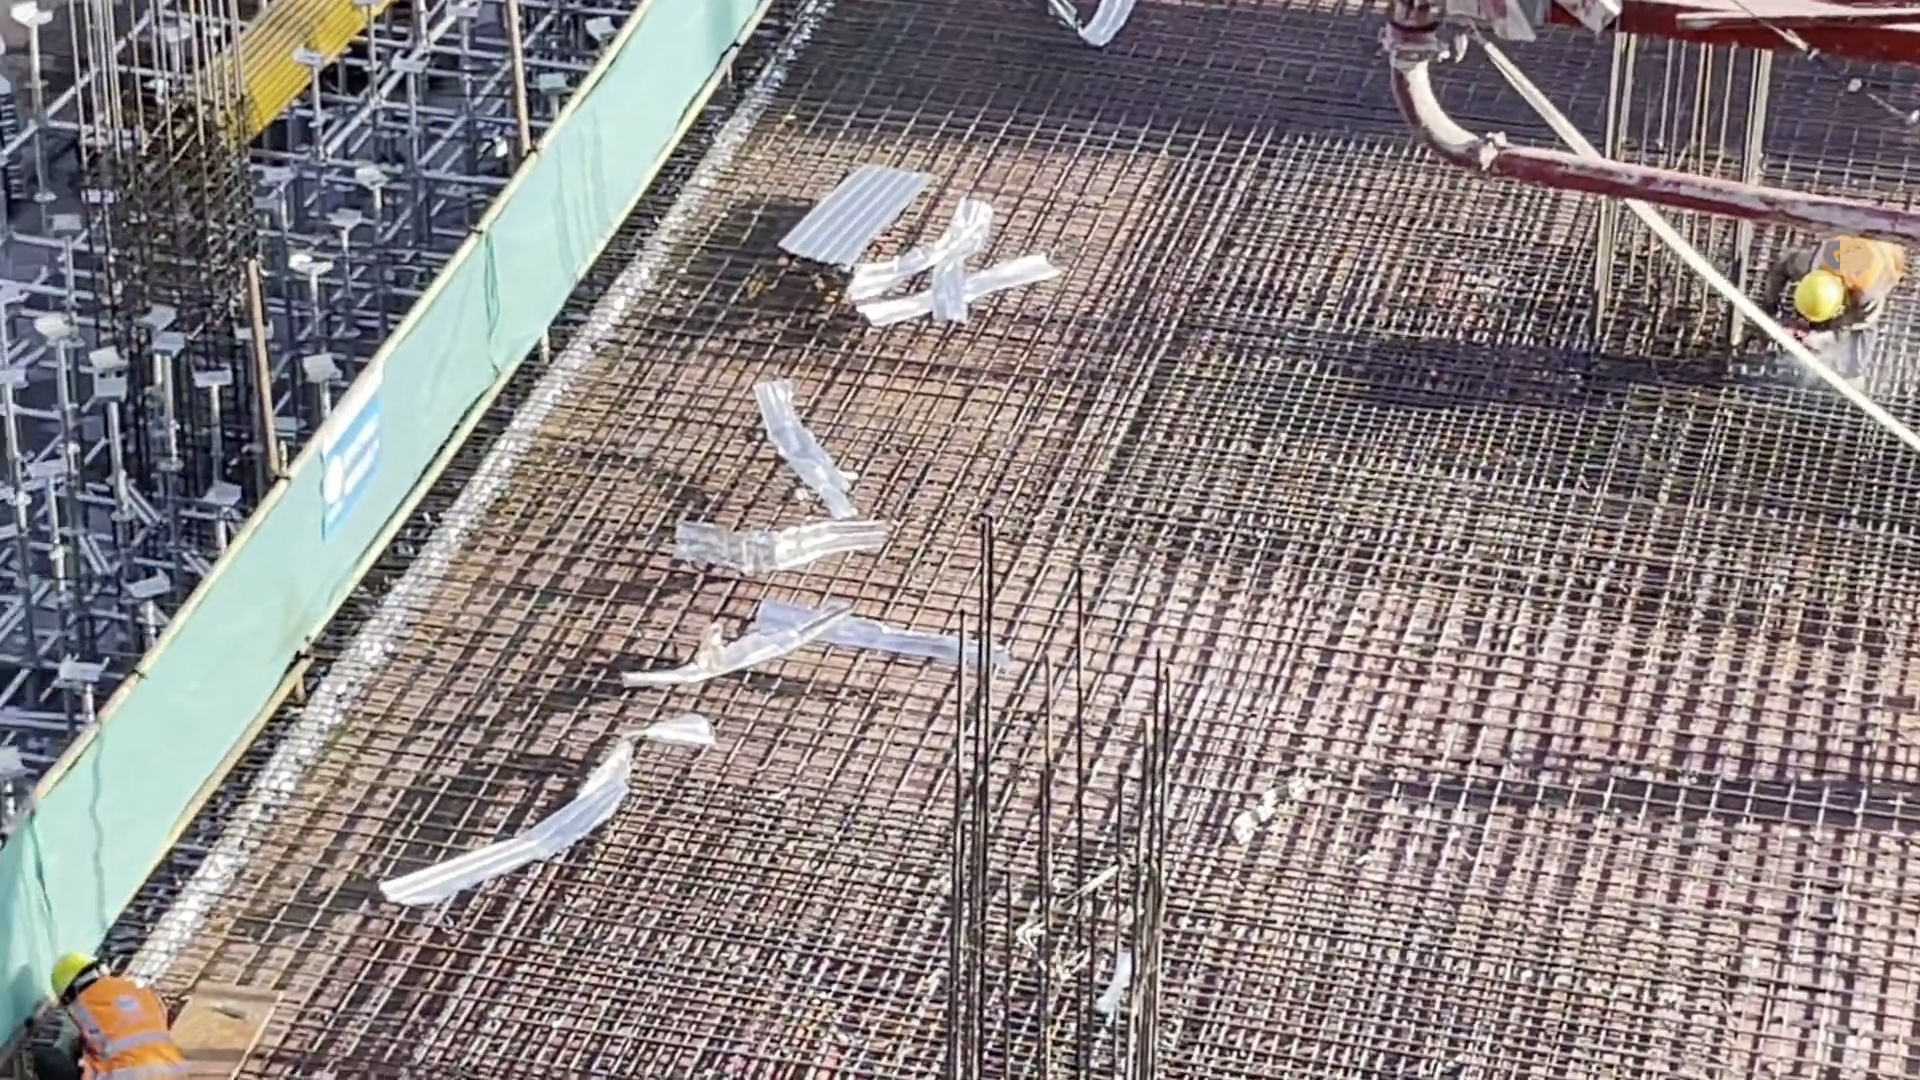helmet: (47, 948, 104, 984), (1796, 277, 1841, 315)
person: (1764, 228, 1910, 400), (40, 952, 195, 1080)
vest: (68, 991, 177, 1079), (1821, 236, 1904, 296)
